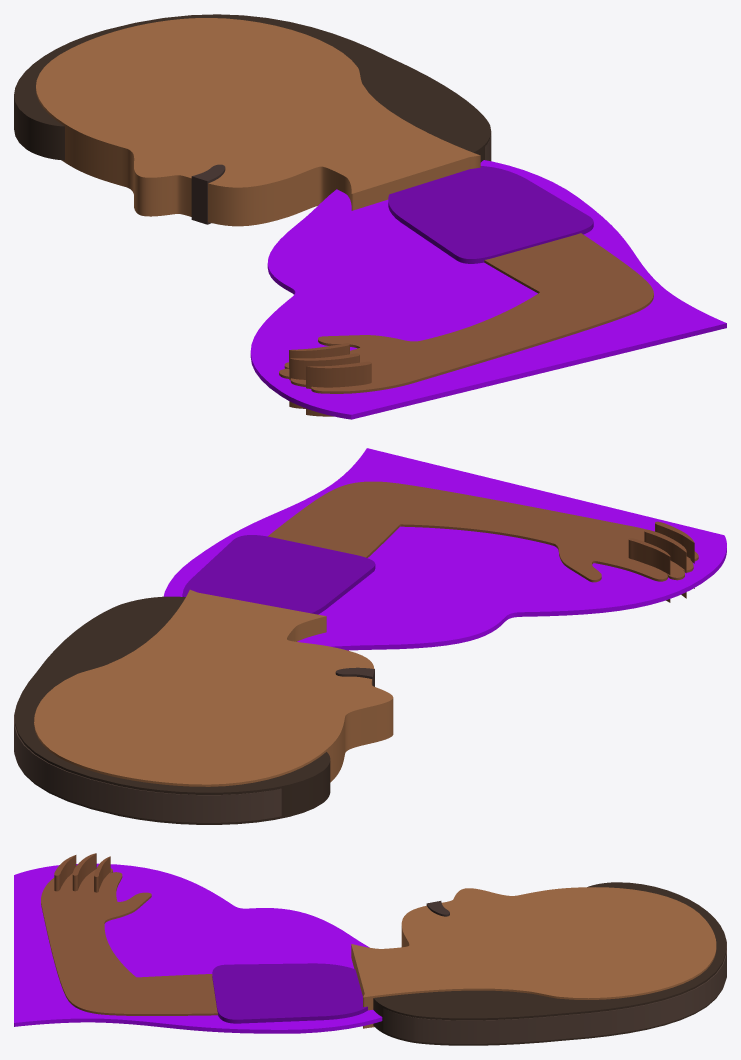
File: emoji_u1f930_1f3fe.glb
3 views of the same model, one above another, from view 1: azimuth 30°, elevation 25°; view 2: azimuth 150°, elevation 25°; view 3: azimuth 270°, elevation 25° (orthographic). The views are drawn at different scales.
Visible parts, largest first — view 1: emoji_u1f930_1f3fe; view 2: emoji_u1f930_1f3fe; view 3: emoji_u1f930_1f3fe.
Boxes of the visible parts, left/top/right/bottom form: emoji_u1f930_1f3fe: left=14, top=14, right=726, bottom=419; emoji_u1f930_1f3fe: left=14, top=448, right=726, bottom=824; emoji_u1f930_1f3fe: left=14, top=853, right=726, bottom=1045.
Bounding box in the file's own units: 0.0183 × 0.002 × 0.0331.
